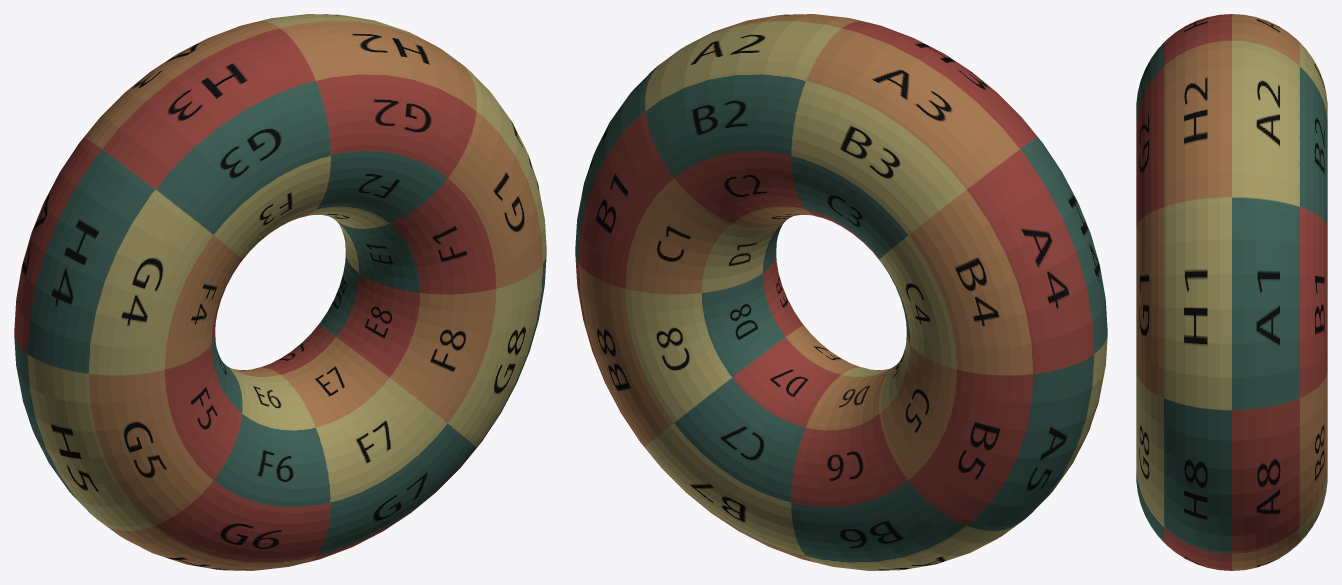
File: texture_torus_R9_r24.glb
3 renders of one model, left to right at view 1: azimuth 30°, elevation 25°; view 2: azimuth 150°, elevation 25°; view 3: azimuth 270°, elevation 25°, orthographic. The views are drawn at different scales.
Visible parts, largest first — view 1: world; view 2: world; view 3: world.
Boxes of the visible parts, x1,y1,x2,y2 form: world: (14,14,546,570); world: (575,14,1107,570); world: (1136,14,1327,570).
Bounding box in the file's own units: 24.4 × 24.35 × 8.38.
Materials: 1 (1 with a texture image).
